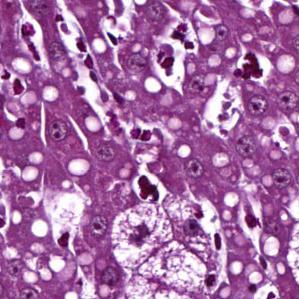ballooning: (163, 192, 231, 281), (109, 197, 175, 271), (137, 239, 208, 290)
